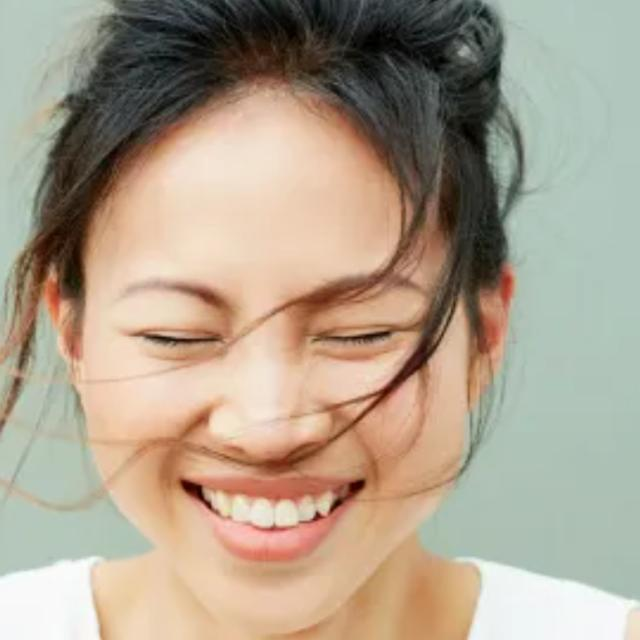close: (94, 262, 248, 376), (286, 260, 440, 372)
